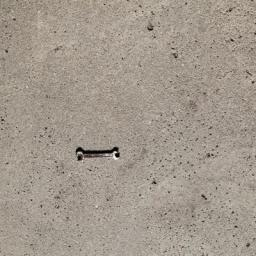FOD: (73, 147, 125, 164)
